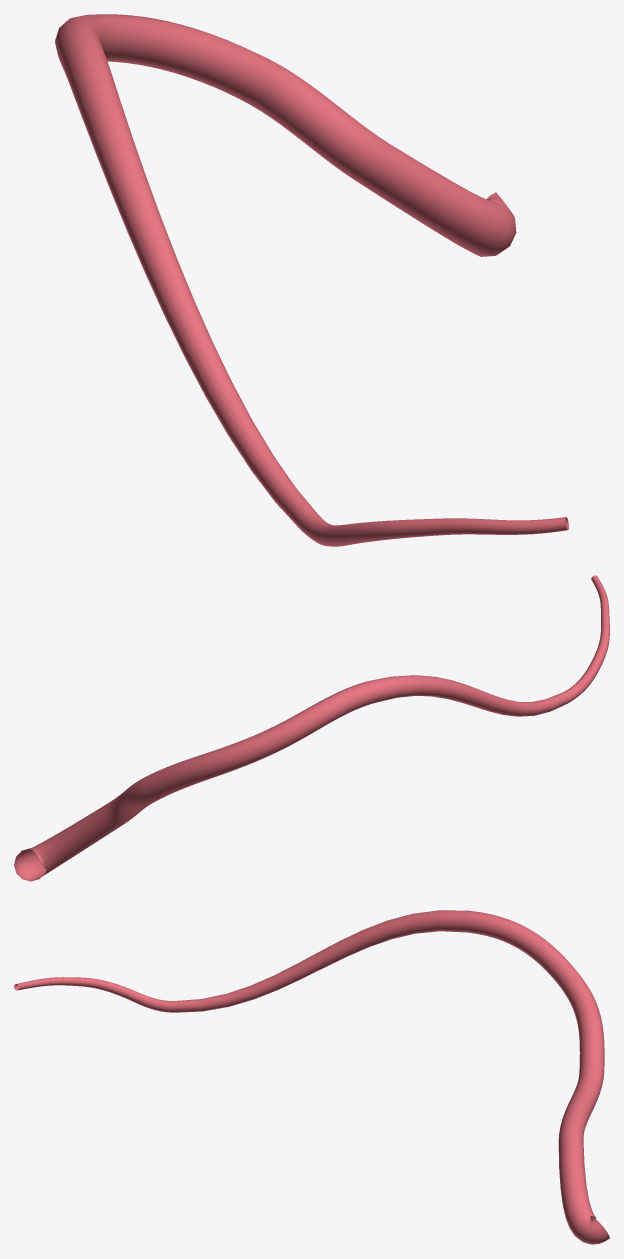
3 renders of one model, top to bottom at view 1: azimuth 30°, elevation 25°; view 2: azimuth 150°, elevation 25°; view 3: azimuth 270°, elevation 25°, orthographic. The views are drawn at different scales.
Visible parts, largest first — view 1: ZA_5cb22acbf6d3280f; view 2: ZA_5cb22acbf6d3280f; view 3: ZA_5cb22acbf6d3280f.
Boxes of the visible parts, x1,y1,x2,y2 form: ZA_5cb22acbf6d3280f: (55,14,568,546); ZA_5cb22acbf6d3280f: (14,575,609,881); ZA_5cb22acbf6d3280f: (14,910,609,1244).
Bounding box in the file's own units: 0.0438 × 0.0269 × 0.0708.
